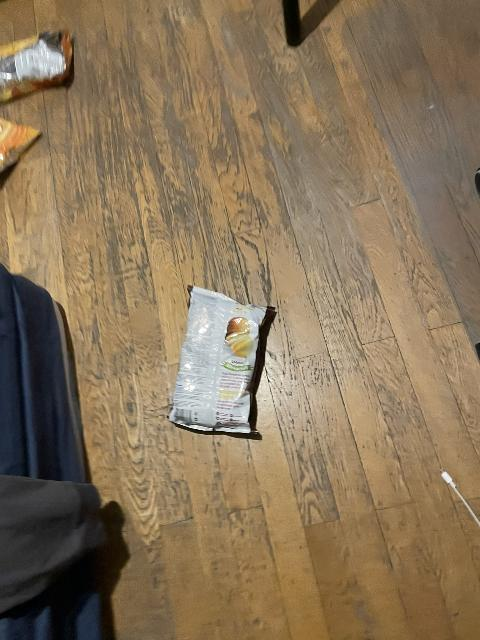Chio Cascaval 125g: (0, 29, 75, 105)
Lays Beef Grilled Ribs 125g: (167, 285, 274, 435)
